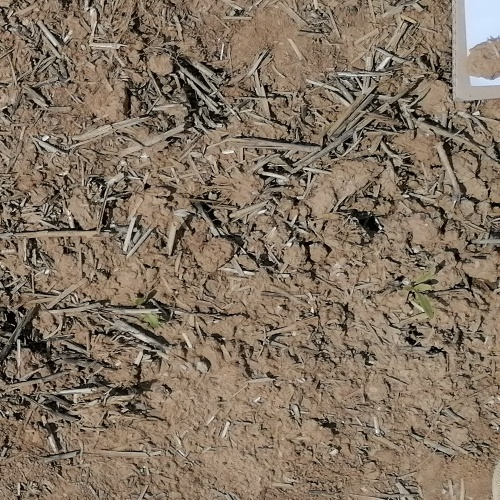beet: (405, 269, 435, 316), (135, 297, 161, 329)
